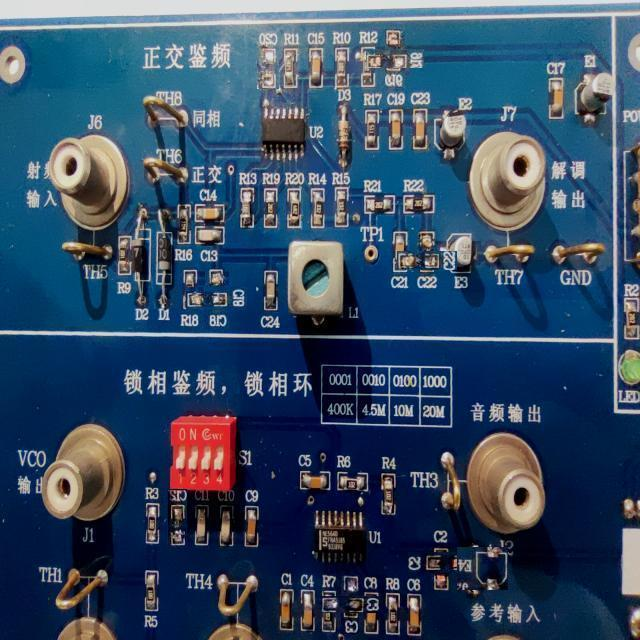miss_welding: (458, 548, 510, 592), (419, 540, 462, 584), (196, 277, 238, 320), (407, 240, 447, 280), (376, 39, 415, 78), (331, 585, 370, 624), (257, 31, 279, 89), (167, 489, 187, 546)
